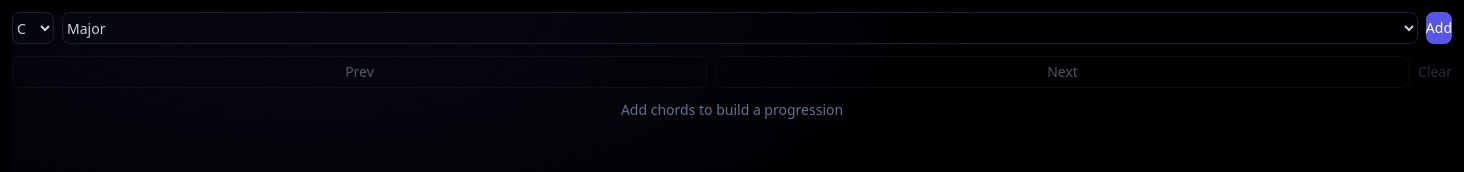
Test: ProgressionBuilder › adds a chord as a labelled row
The image size is (1464, 172).
Select "C" in the dropdown named "Root note". click: (33, 28)
box: [12, 12, 54, 44]
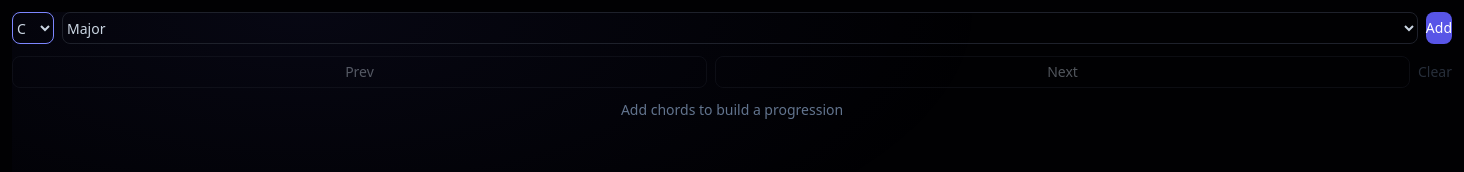
Select "Major" in the dropdown named "Chord quality". click: (740, 28)
box: [62, 12, 1418, 44]
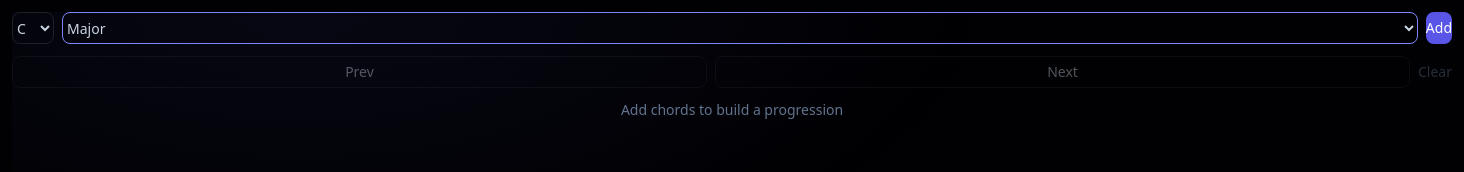
Click the button "Add". click: (1439, 28)
box: [1426, 12, 1452, 44]
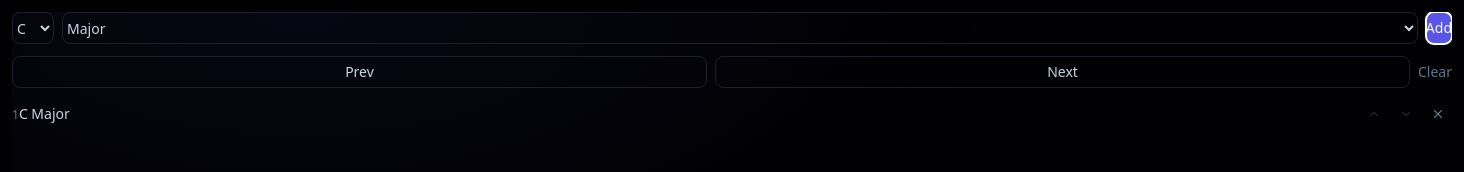
Check: the button "1C Major" is shown, box [12, 104, 1356, 124]
